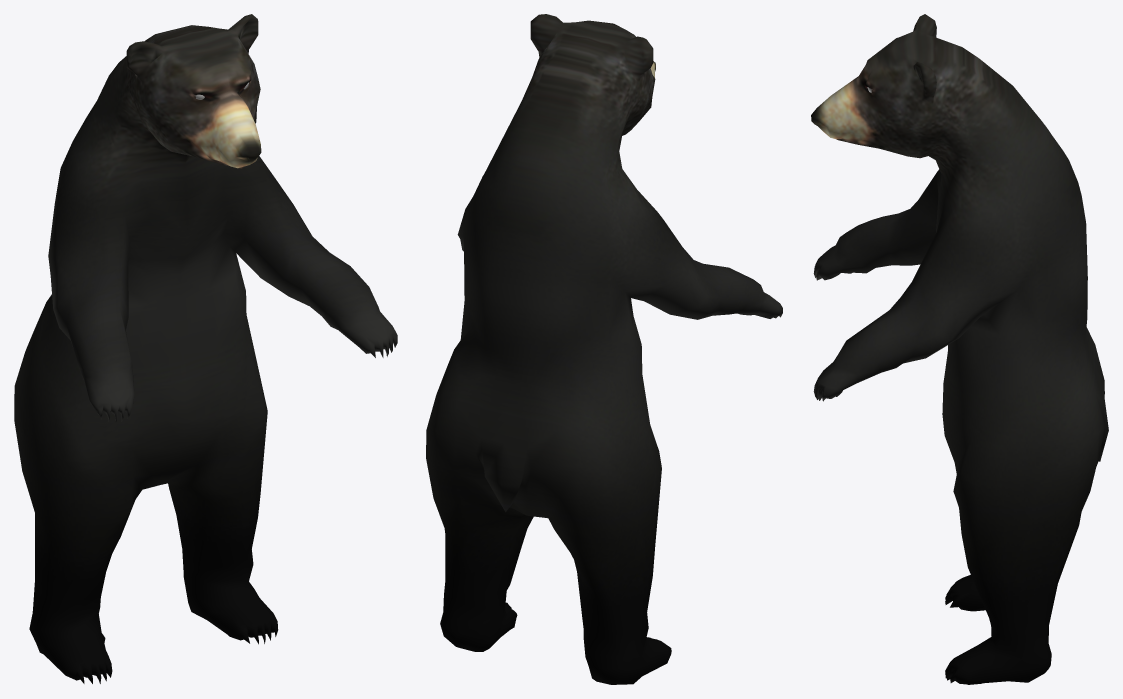
Rendered from bear.fbx.
3 views of the same model, side by side, from view 1: azimuth 30°, elevation 25°; view 2: azimuth 150°, elevation 25°; view 3: azimuth 270°, elevation 25° (orthographic). The views are drawn at different scales.
Parts seen in each view (by area): view 1: bear_blk; view 2: bear_blk; view 3: bear_blk.
Boxes of the visible parts, <box> form: bear_blk: <box>14,14,397,683</box>; bear_blk: <box>426,14,782,684</box>; bear_blk: <box>811,14,1108,684</box>.
Size of the model in its own units: 113 by 230 by 103.
